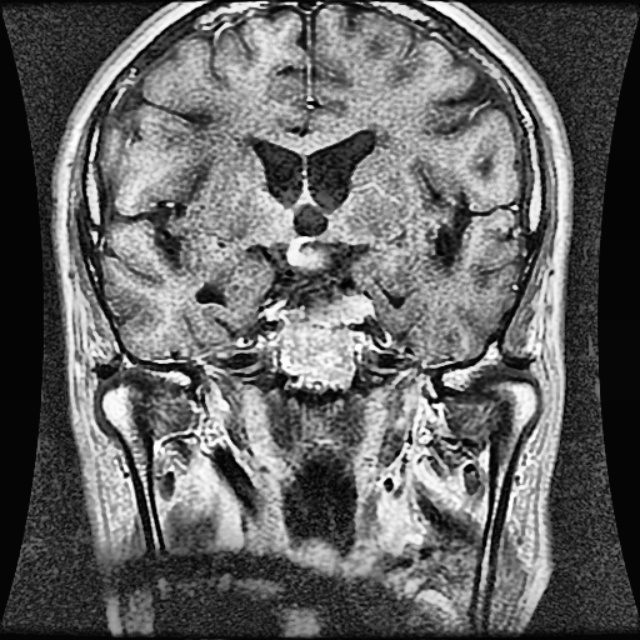Pituitary: (260, 235, 374, 324)
